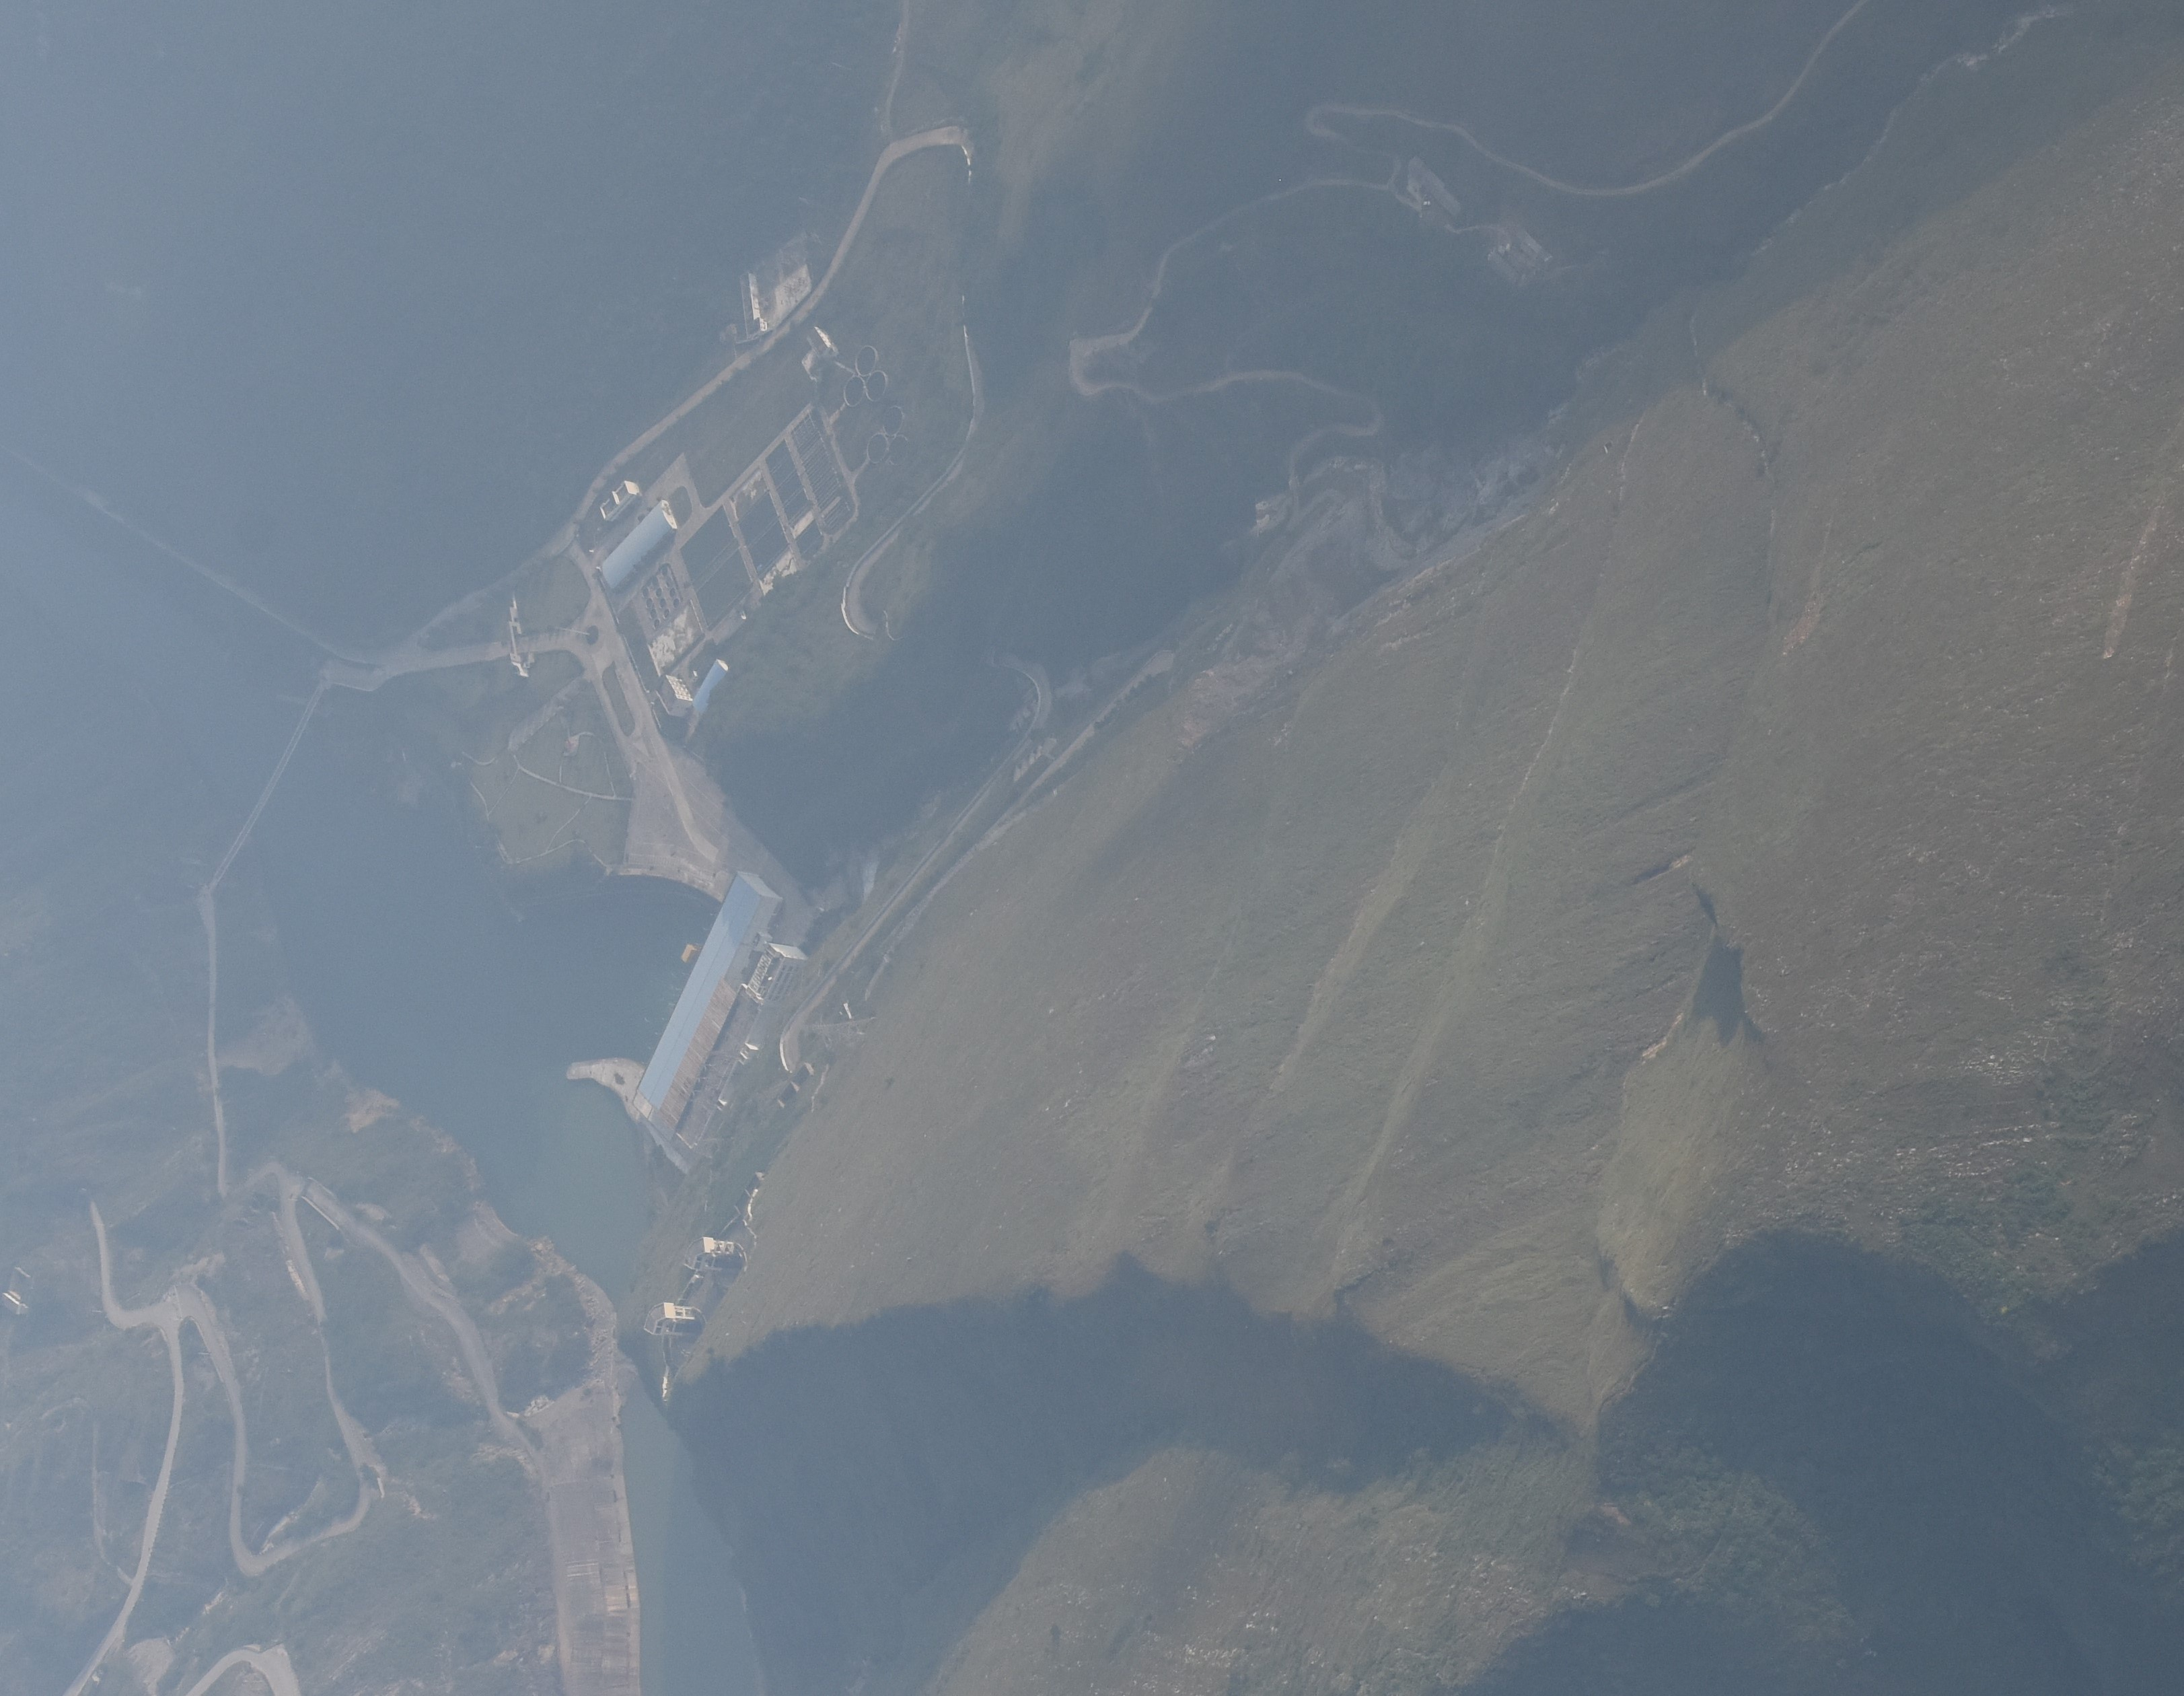building: (739, 940, 808, 1017), (640, 1300, 707, 1341), (682, 1235, 743, 1276), (736, 271, 769, 339), (596, 477, 642, 522), (649, 674, 691, 718), (805, 323, 837, 362)
prefabricated-house: (617, 869, 792, 1119), (581, 499, 681, 591), (690, 658, 734, 720)
